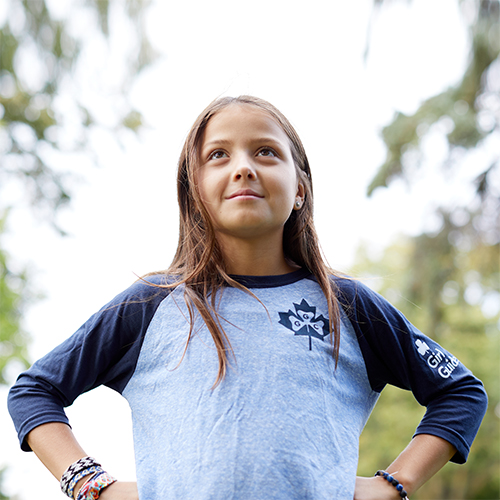GIRL: (182, 100, 305, 237)
